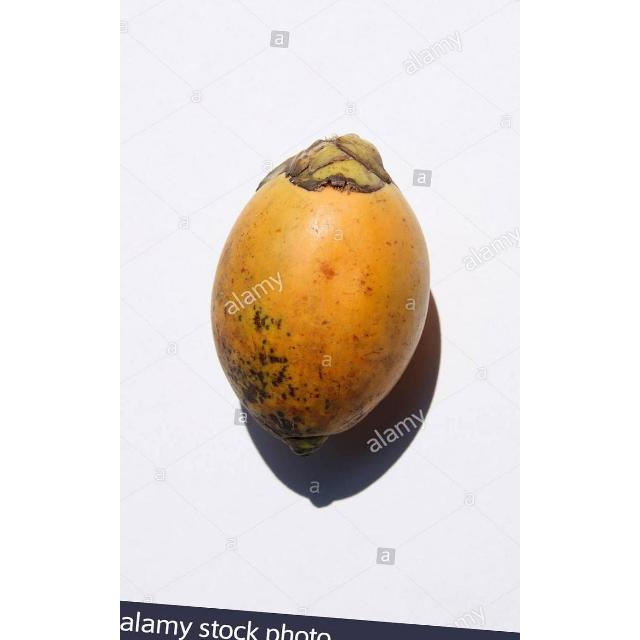good: (210, 134, 431, 458)
